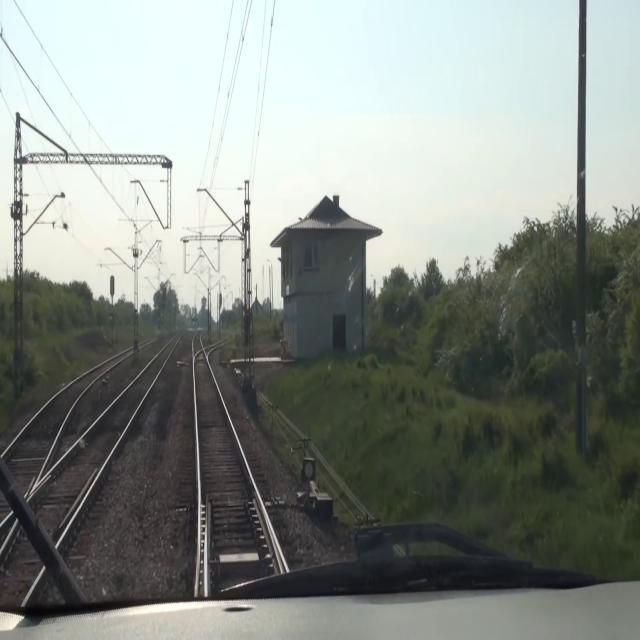rail-track: (0, 330, 182, 607), (0, 351, 130, 519), (194, 353, 279, 597), (193, 332, 200, 352)
